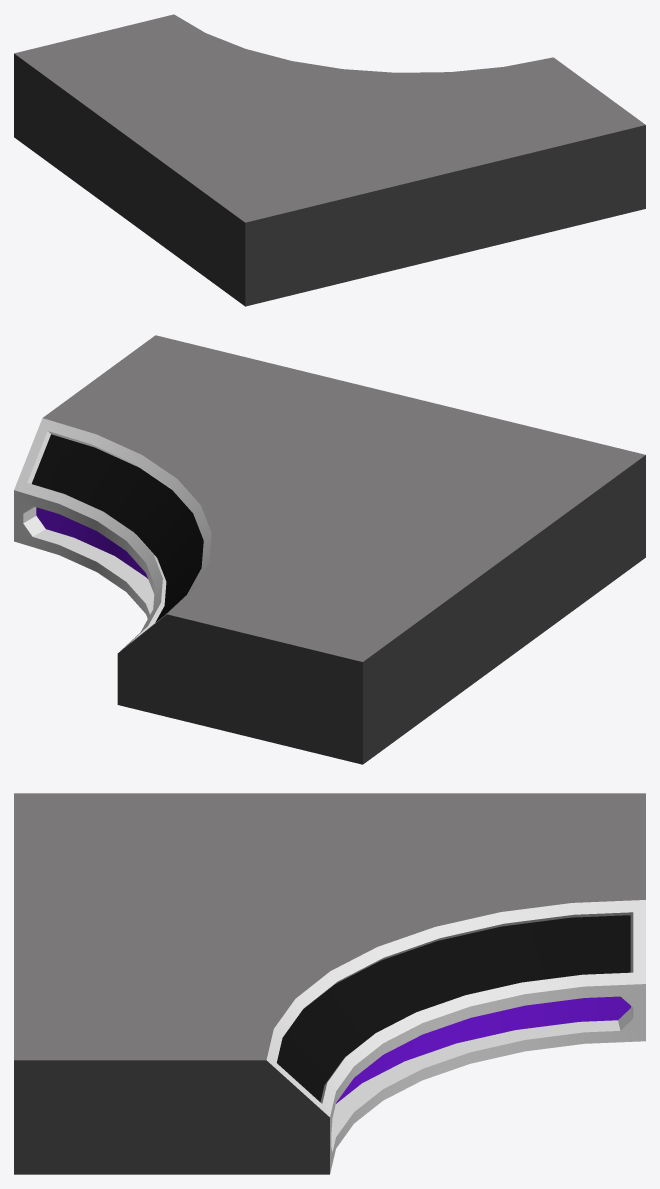
Rendered from PlatformBorder00b_5InteriorCorner.fbx.
3 views of the same model, one above another, from view 1: azimuth 30°, elevation 25°; view 2: azimuth 150°, elevation 25°; view 3: azimuth 270°, elevation 25° (orthographic). The views are drawn at different scales.
Visible parts, largest first — view 1: PlatformBorder00b_5InteriorCorner; view 2: PlatformBorder00b_5InteriorCorner; view 3: PlatformBorder00b_5InteriorCorner.
Part boxes in pixels (x1,y1,x2,y2): PlatformBorder00b_5InteriorCorner: (14, 14, 645, 306); PlatformBorder00b_5InteriorCorner: (14, 335, 645, 764); PlatformBorder00b_5InteriorCorner: (14, 793, 645, 1174).
Bounding box in the file's own units: 500 × 100 × 500.
